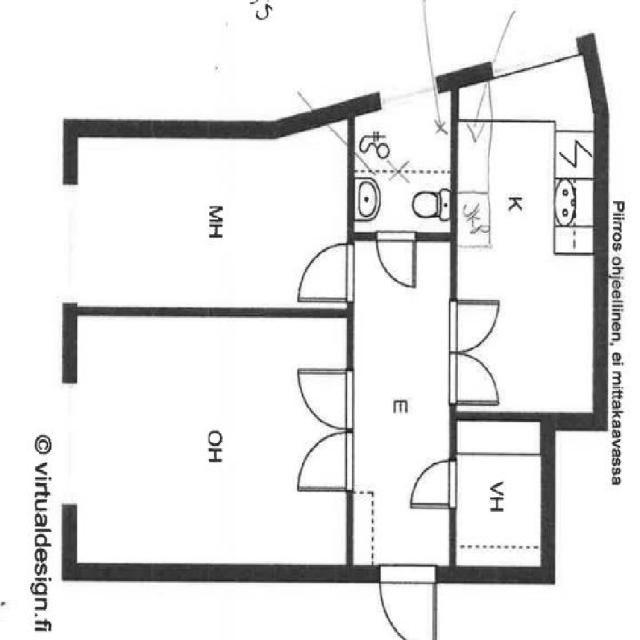door: (376, 566, 439, 640), (296, 365, 354, 436), (448, 296, 501, 360), (298, 239, 352, 301), (296, 429, 350, 490), (372, 228, 419, 293), (406, 453, 458, 510), (449, 349, 501, 405), (491, 6, 532, 74)
window: (61, 168, 80, 306), (58, 379, 77, 508), (373, 80, 438, 114)
zone: (72, 312, 349, 568), (73, 126, 350, 308), (453, 104, 598, 423), (348, 222, 454, 585), (451, 421, 545, 578), (351, 96, 453, 234)
